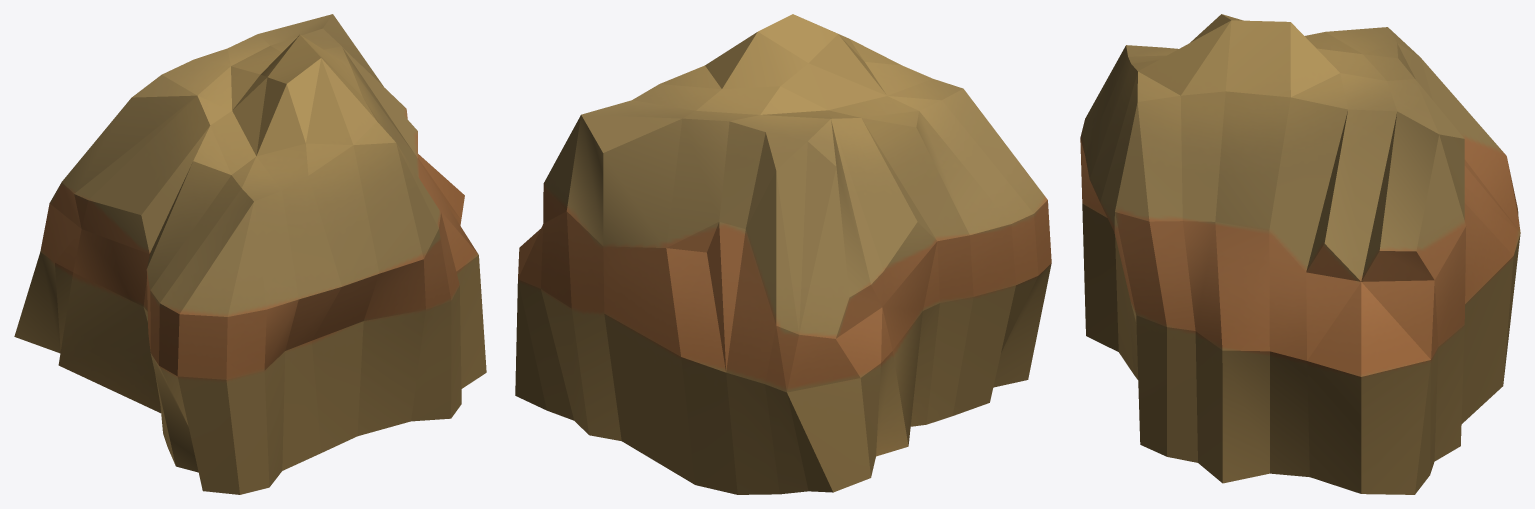
The model's file is Rock 1.fbx.
3 renders of one model, left to right at view 1: azimuth 30°, elevation 25°; view 2: azimuth 150°, elevation 25°; view 3: azimuth 270°, elevation 25°, orthographic. The views are drawn at different scales.
Parts seen in each view (by area): view 1: Canyon_Rock3; view 2: Canyon_Rock3; view 3: Canyon_Rock3.
Boxes of the visible parts, x1,y1,x2,y2 form: Canyon_Rock3: (14, 14, 486, 494); Canyon_Rock3: (515, 14, 1051, 494); Canyon_Rock3: (1080, 14, 1520, 494).
Bounding box in the file's own units: 68.4 × 57.72 × 59.94.
1 material, 1 textured.
